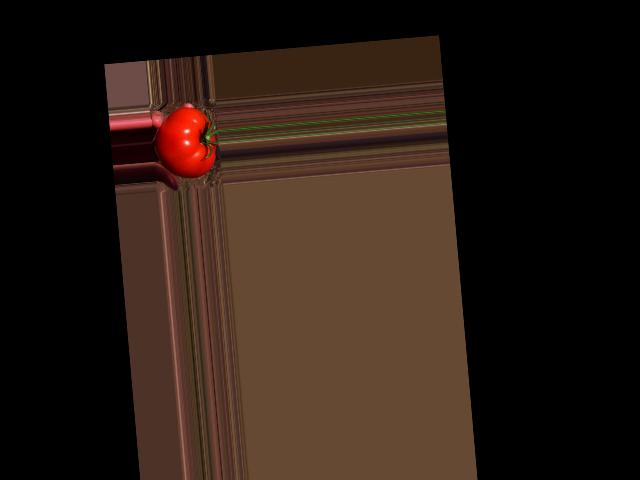tomato: (152, 104, 218, 179)
